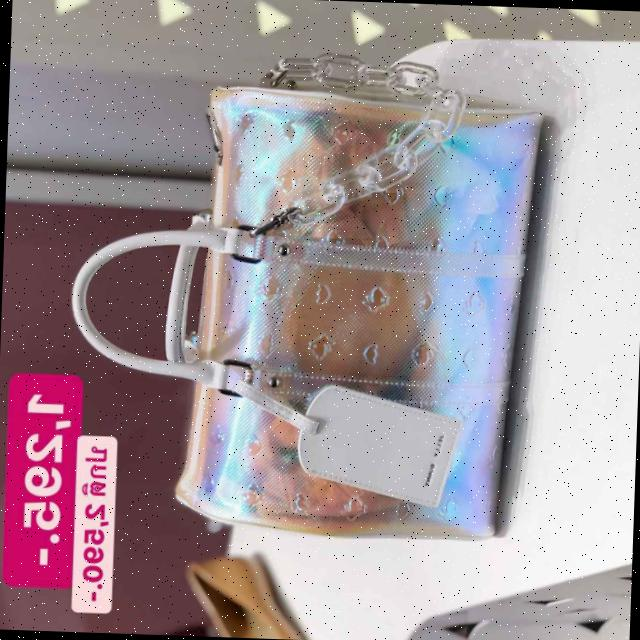Handbag: (153, 64, 546, 560)
